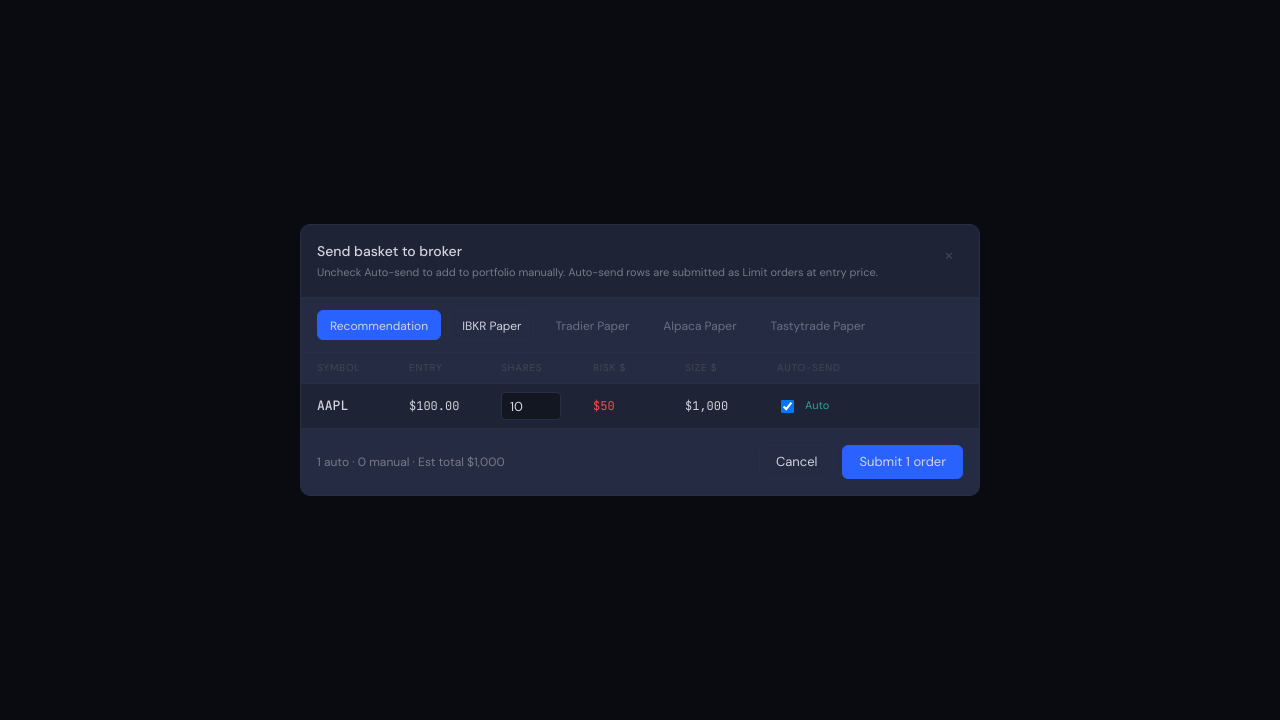
Test case: StockSendDialog — partial basket failure retry › saves each auto-send row BEFORE its order, at the saved (resized) share count
This screenshot has width=1280, height=720.
Click the button "IBKR Paper". click: (492, 325)
box: x1=449 y1=310 x2=534 y2=340
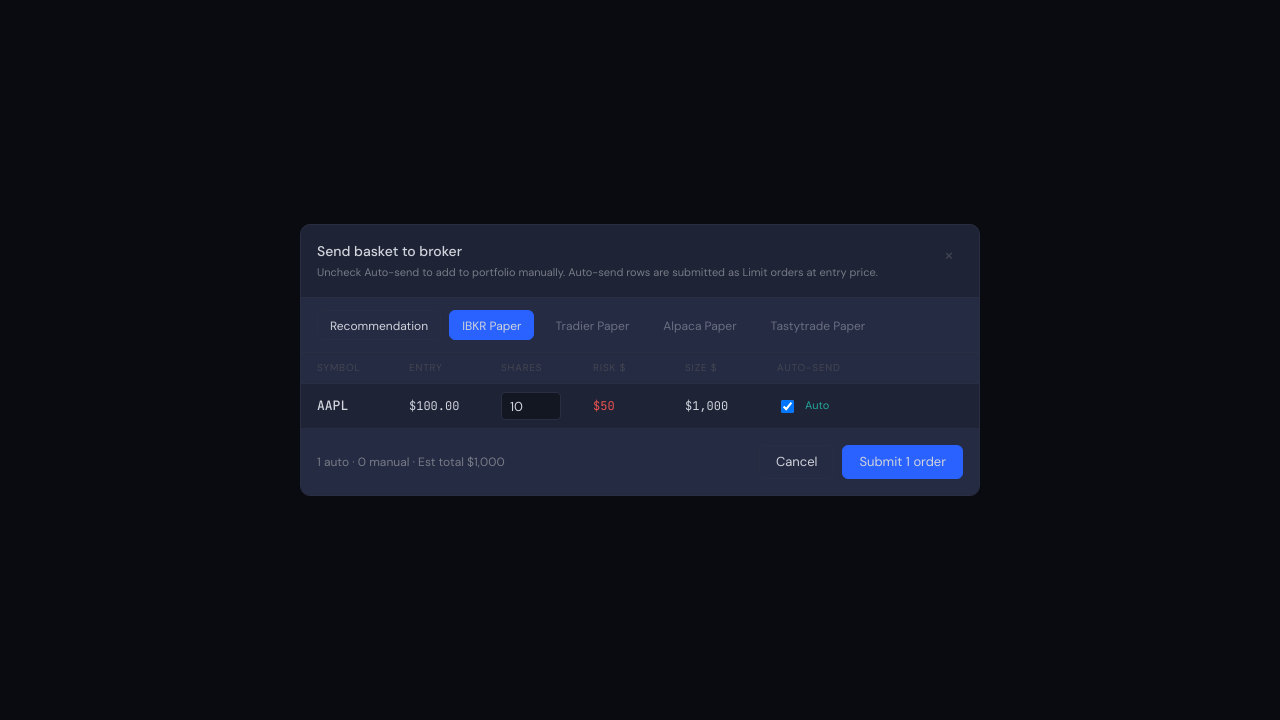
Click the button "Submit 1 order". click: (903, 462)
box: x1=842 y1=445 x2=963 y2=479
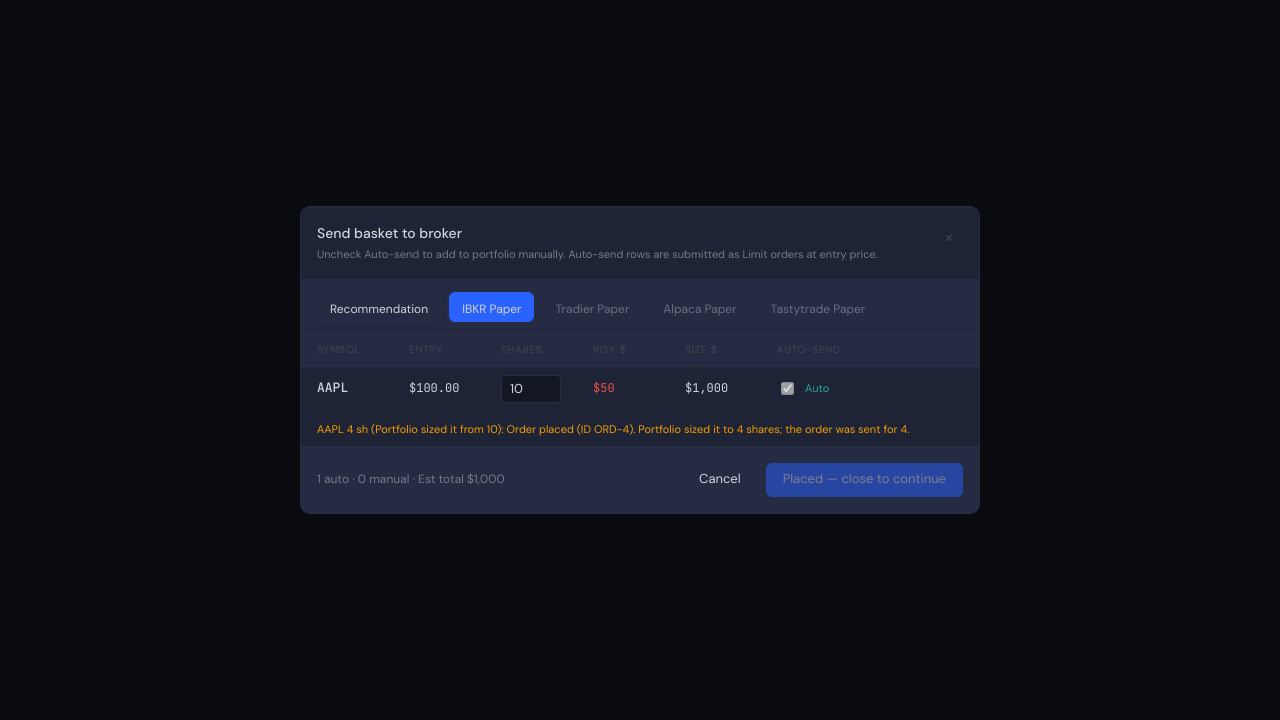
Now the text "Portfolio sized it to 4 shares; the order was sent for 4" is shown, box x1=317 y1=422 x2=909 y2=436
